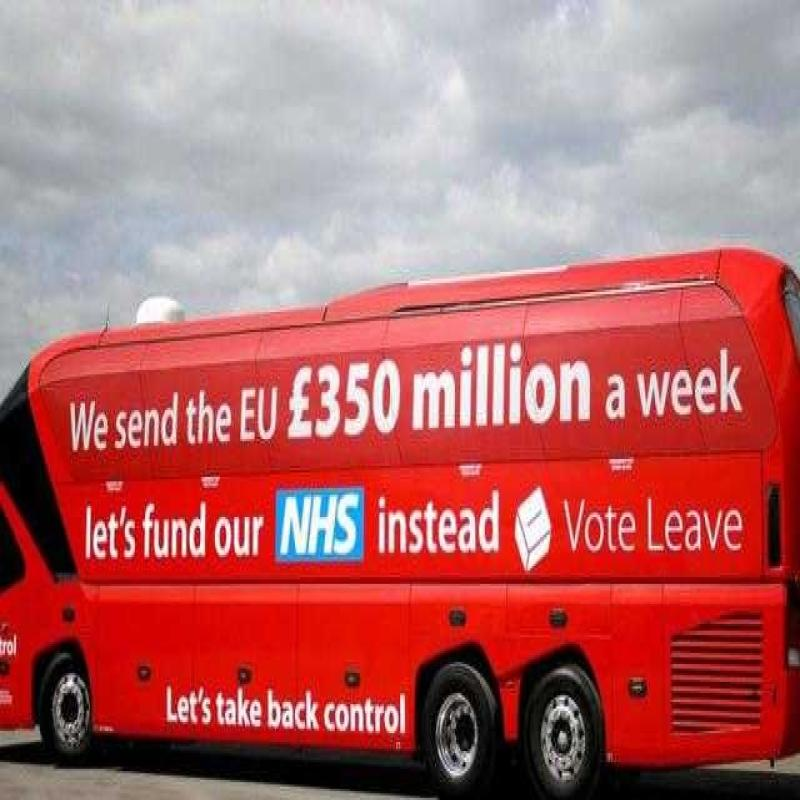bus: (8, 271, 800, 755)
